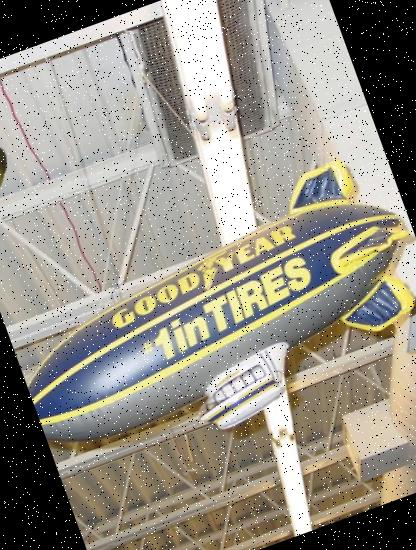Pomelo: (0, 132, 19, 201)
